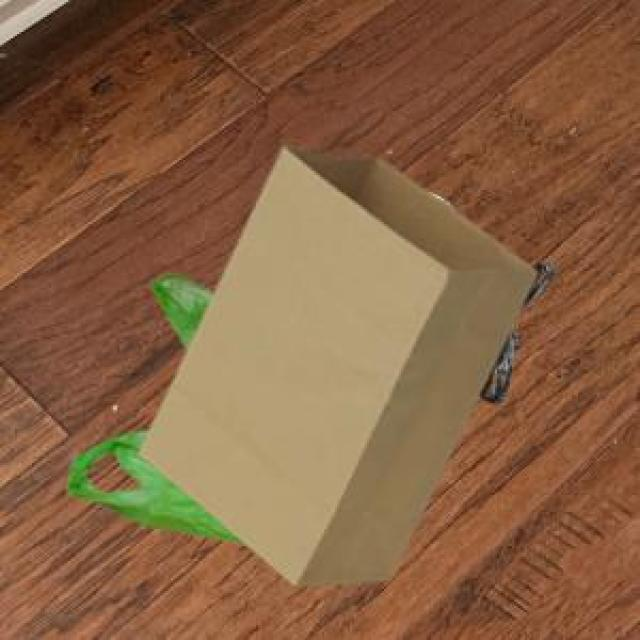miscellaneous trash: (476, 260, 553, 399)
paper: (134, 143, 533, 580)
